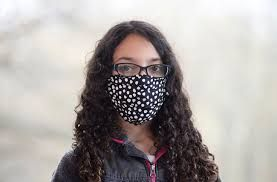with-mask: (104, 27, 171, 126)
